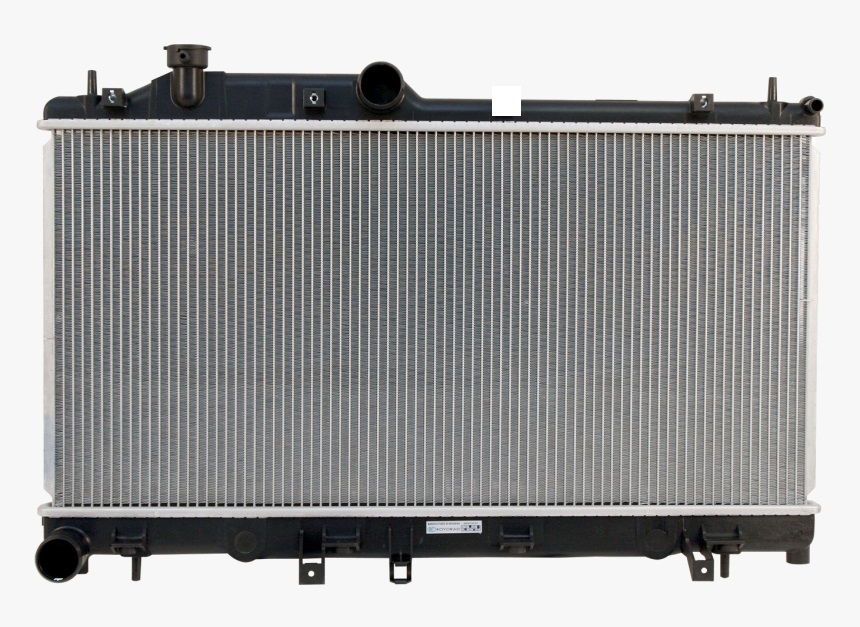c1: (84, 64, 130, 113)
c10: (230, 527, 260, 557)
c11: (298, 527, 361, 586)
c12: (389, 525, 413, 584)
c13: (498, 523, 536, 555)
c14: (679, 518, 746, 581)
c2: (162, 42, 213, 112)
c3: (299, 85, 330, 112)
c4: (357, 56, 407, 113)
c6: (691, 91, 717, 114)
c7: (768, 74, 825, 123)
c8: (32, 525, 91, 586)
c9: (109, 527, 150, 582)
